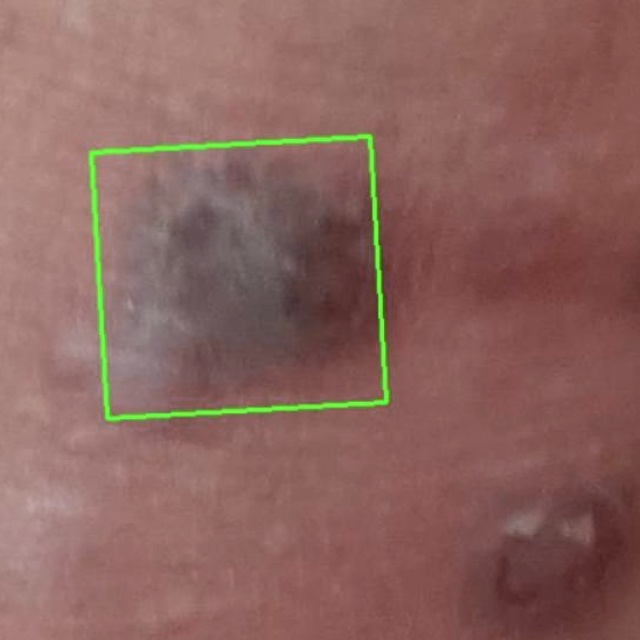Contact Dermatitis: (92, 136, 387, 419)
